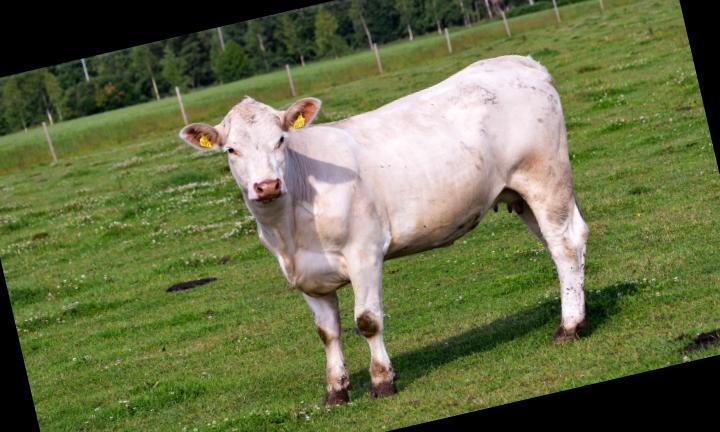Charolais: (180, 55, 589, 404)
